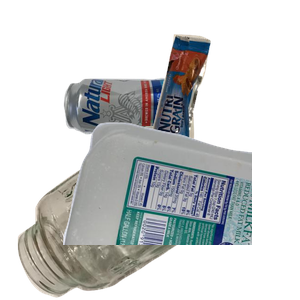glass: (15, 126, 229, 300)
metal: (61, 75, 231, 202)
plastic: (60, 120, 300, 300)
trash: (149, 31, 300, 179)
